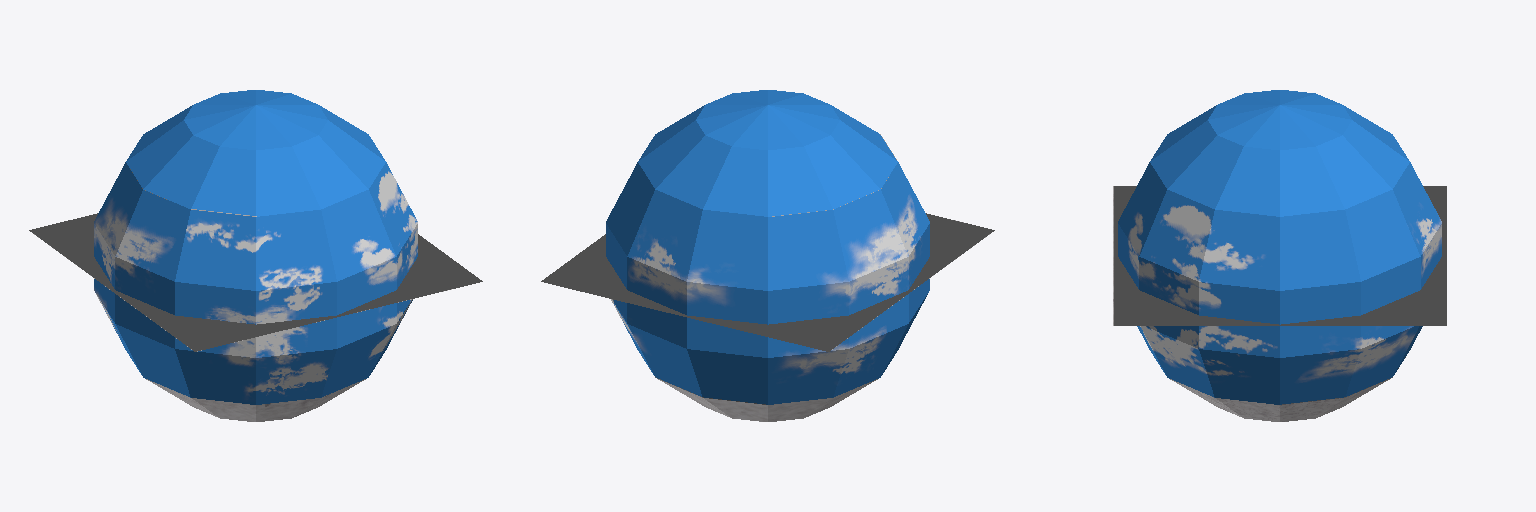
The picture shows the model from 3 angles: view 1: azimuth 30°, elevation 25°; view 2: azimuth 150°, elevation 25°; view 3: azimuth 270°, elevation 25°; orthographic projection.
Parts seen in each view (by area): view 1: unit.148_立方体.117; view 2: unit.148_立方体.117; view 3: unit.148_立方体.117.
Part boxes in pixels (x1,y1,x2,y2): unit.148_立方体.117: (29,90,482,421); unit.148_立方体.117: (541,90,994,421); unit.148_立方体.117: (1113,90,1446,421).
Size of the model in its own units: 60 by 60 by 60.
1 materials, 1 textured.